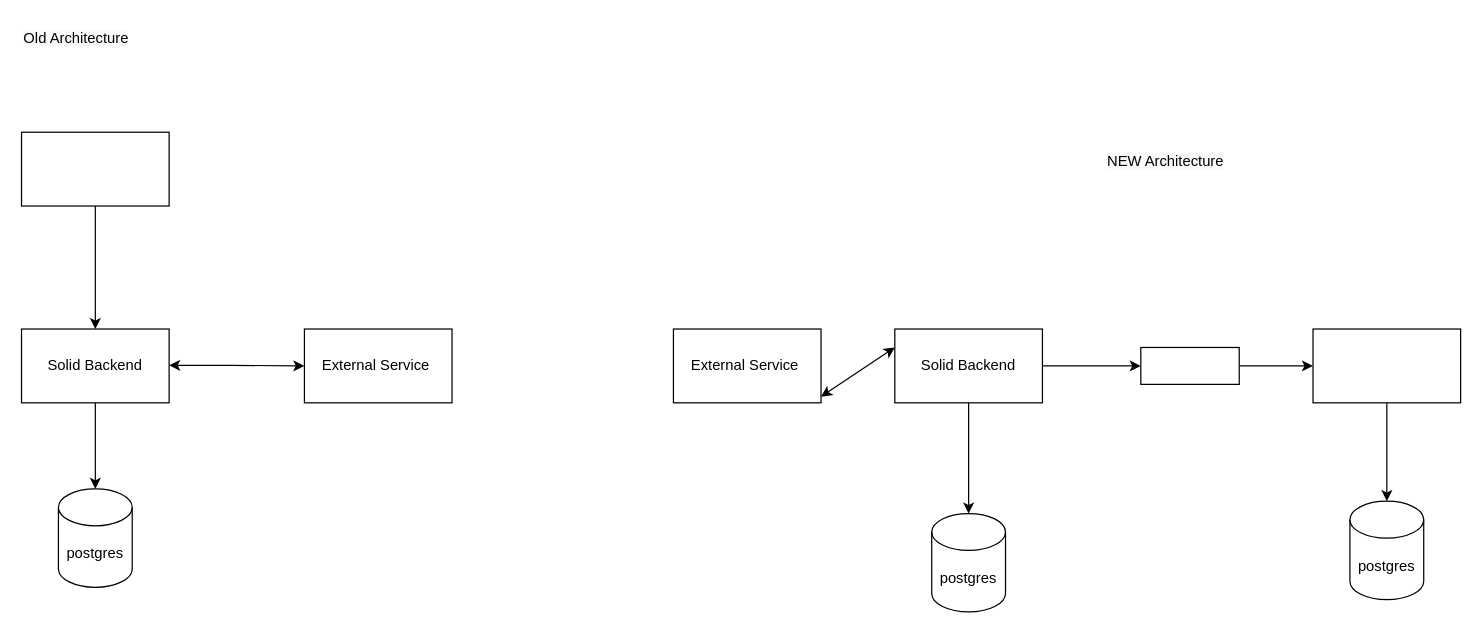
Image size: 1482x633. Some labels were removed from this diagram. The centre of each missing label's shape, as x and y in pixels:
"Customer" belongs at pixel 94 168.
"Reverse Proxy" belongs at pixel 1189 365.
